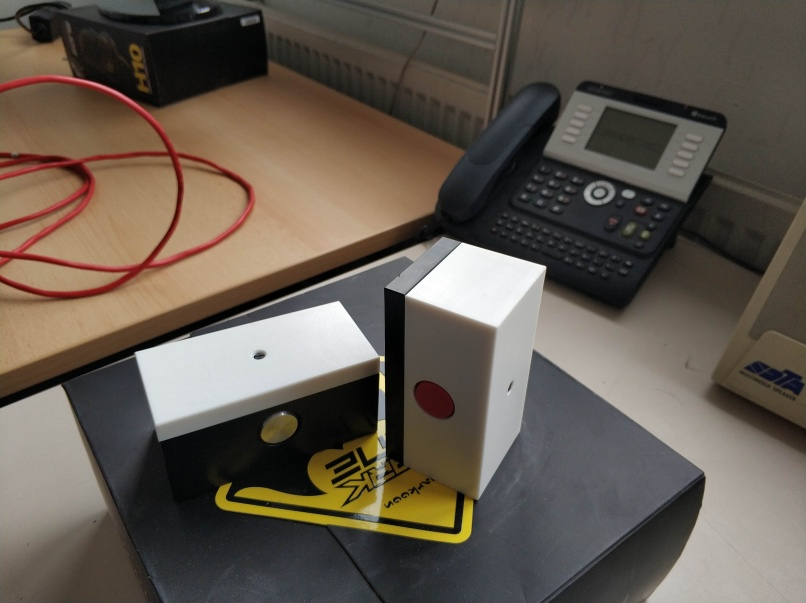black+white+red: (132, 298, 380, 509), (383, 236, 549, 503)
